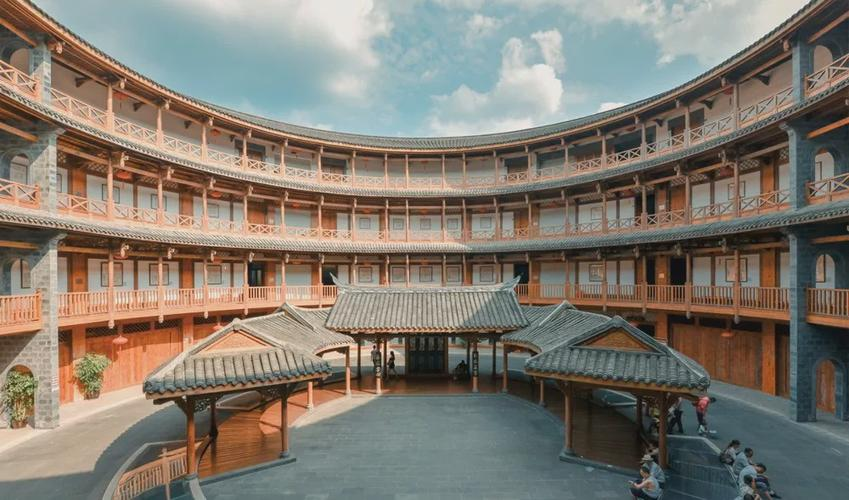buildings: (13, 46, 624, 391), (204, 43, 830, 379)
